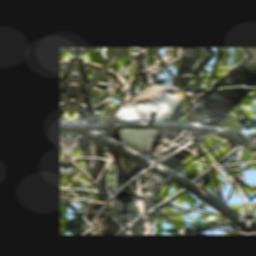Cuckoo: (94, 81, 201, 224)
